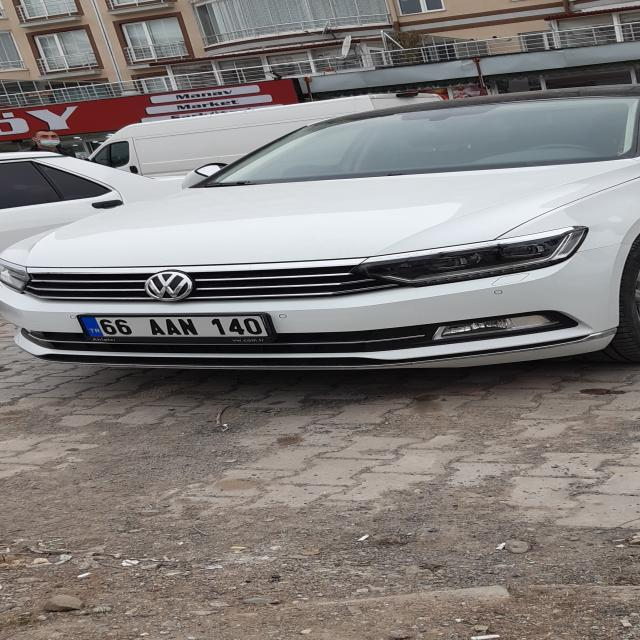license_plate: (77, 315, 271, 338)
